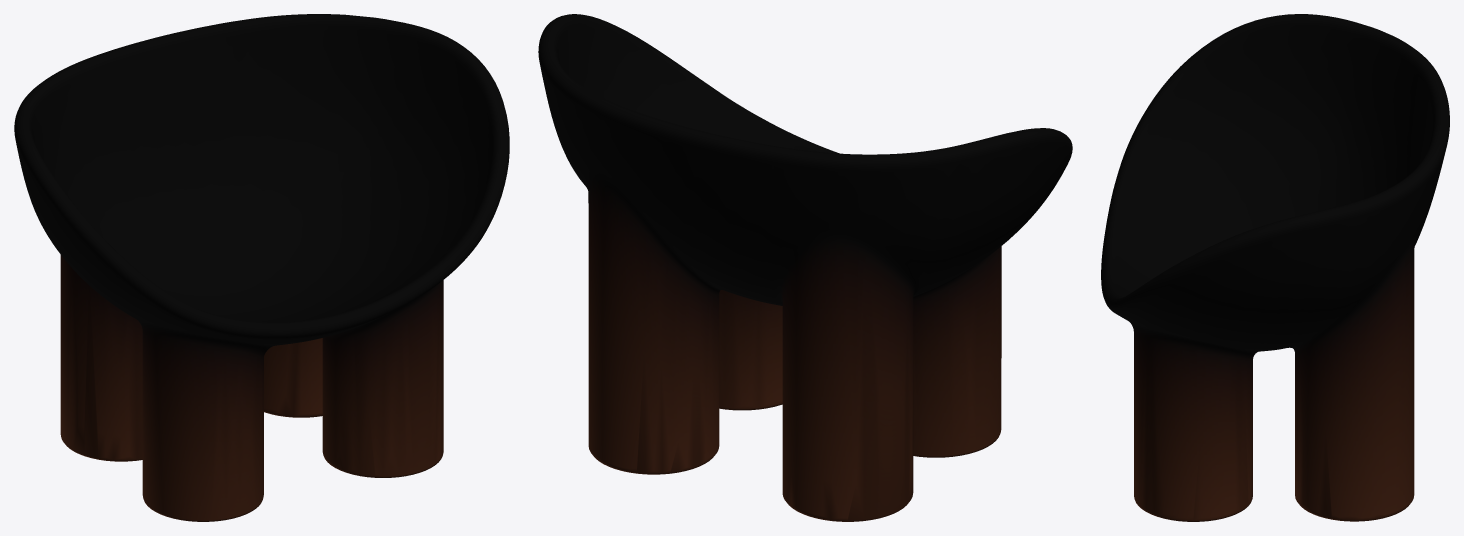
The model's file is dimensiva-roly-poly-chair-by-driade.optimized.glb.
3 views of the same model, side by side, from view 1: azimuth 30°, elevation 25°; view 2: azimuth 150°, elevation 25°; view 3: azimuth 270°, elevation 25° (orthographic). The views are drawn at different scales.
Parts seen in each view (by area): view 1: Roly Poly Chair; view 2: Roly Poly Chair; view 3: Roly Poly Chair.
Boxes of the visible parts, <box> form: Roly Poly Chair: <box>14,14,509,521</box>; Roly Poly Chair: <box>538,14,1072,521</box>; Roly Poly Chair: <box>1101,14,1449,521</box>.
Bounding box in the file's own units: 0.8455 × 0.6251 × 0.5788.
